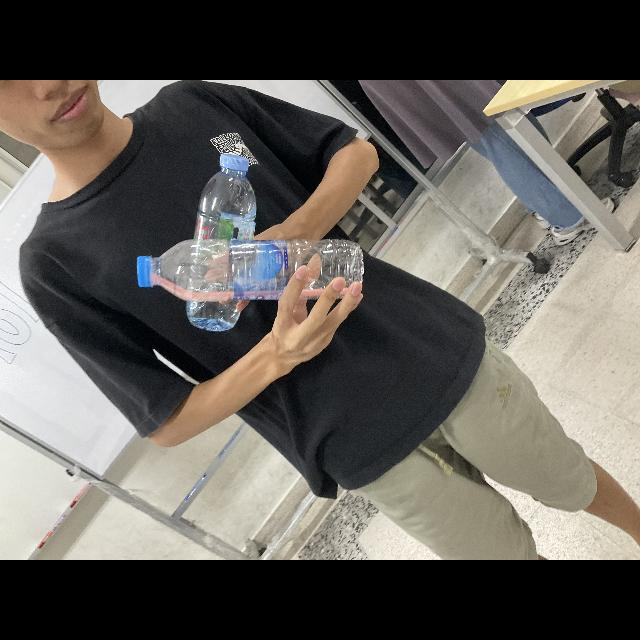plastic_bottle: (138, 238, 366, 300), (186, 152, 258, 332)
